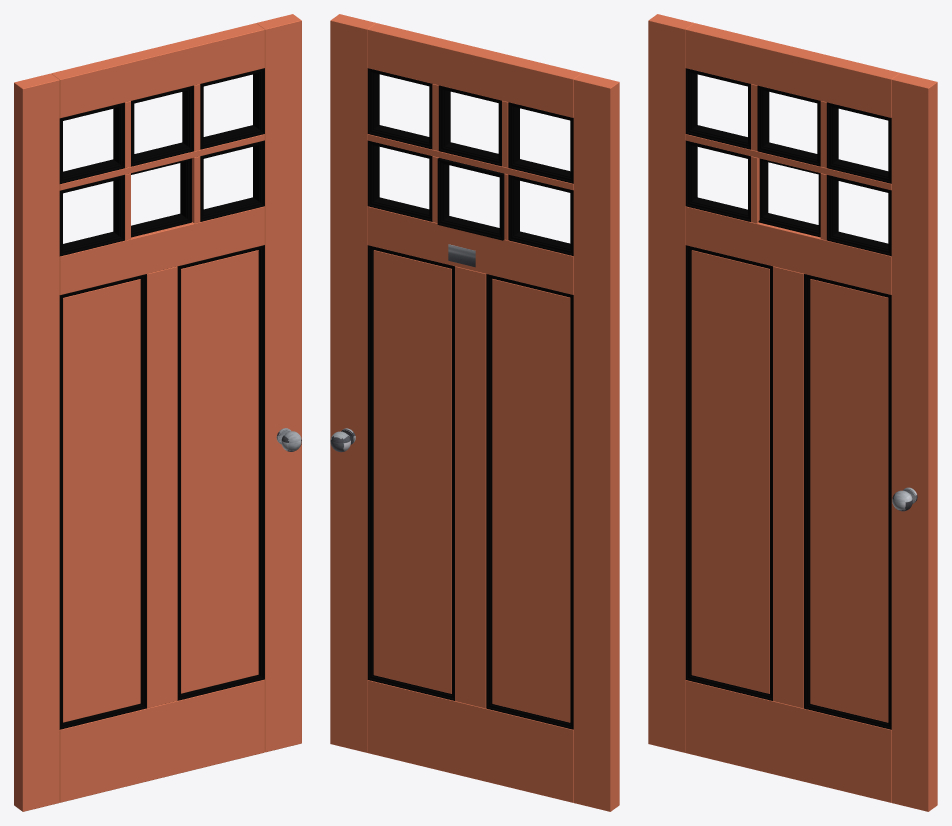
The model's file is puerta.obj.
3 renders of one model, left to right at view 1: azimuth 30°, elevation 25°; view 2: azimuth 150°, elevation 25°; view 3: azimuth 330°, elevation 25°, orthographic.
Parts seen in each view (by area): view 1: pasted__polySurface500 group4; view 2: pasted__polySurface500 group4; view 3: pasted__polySurface500 group4.
Part boxes in pixels (x1=…): pasted__polySurface500 group4: x1=14, y1=14, x2=301, y2=811; pasted__polySurface500 group4: x1=330, y1=14, x2=619, y2=811; pasted__polySurface500 group4: x1=648, y1=14, x2=937, y2=811.
Size of the model in its own units: 2.22 by 5.48 by 0.4607.
Materials: 3 (2 with a texture image).
